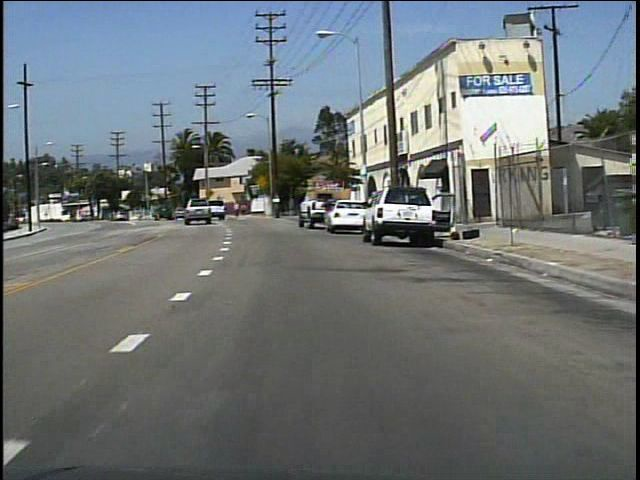person: (319, 193, 337, 232), (232, 198, 242, 220), (240, 201, 249, 218)
